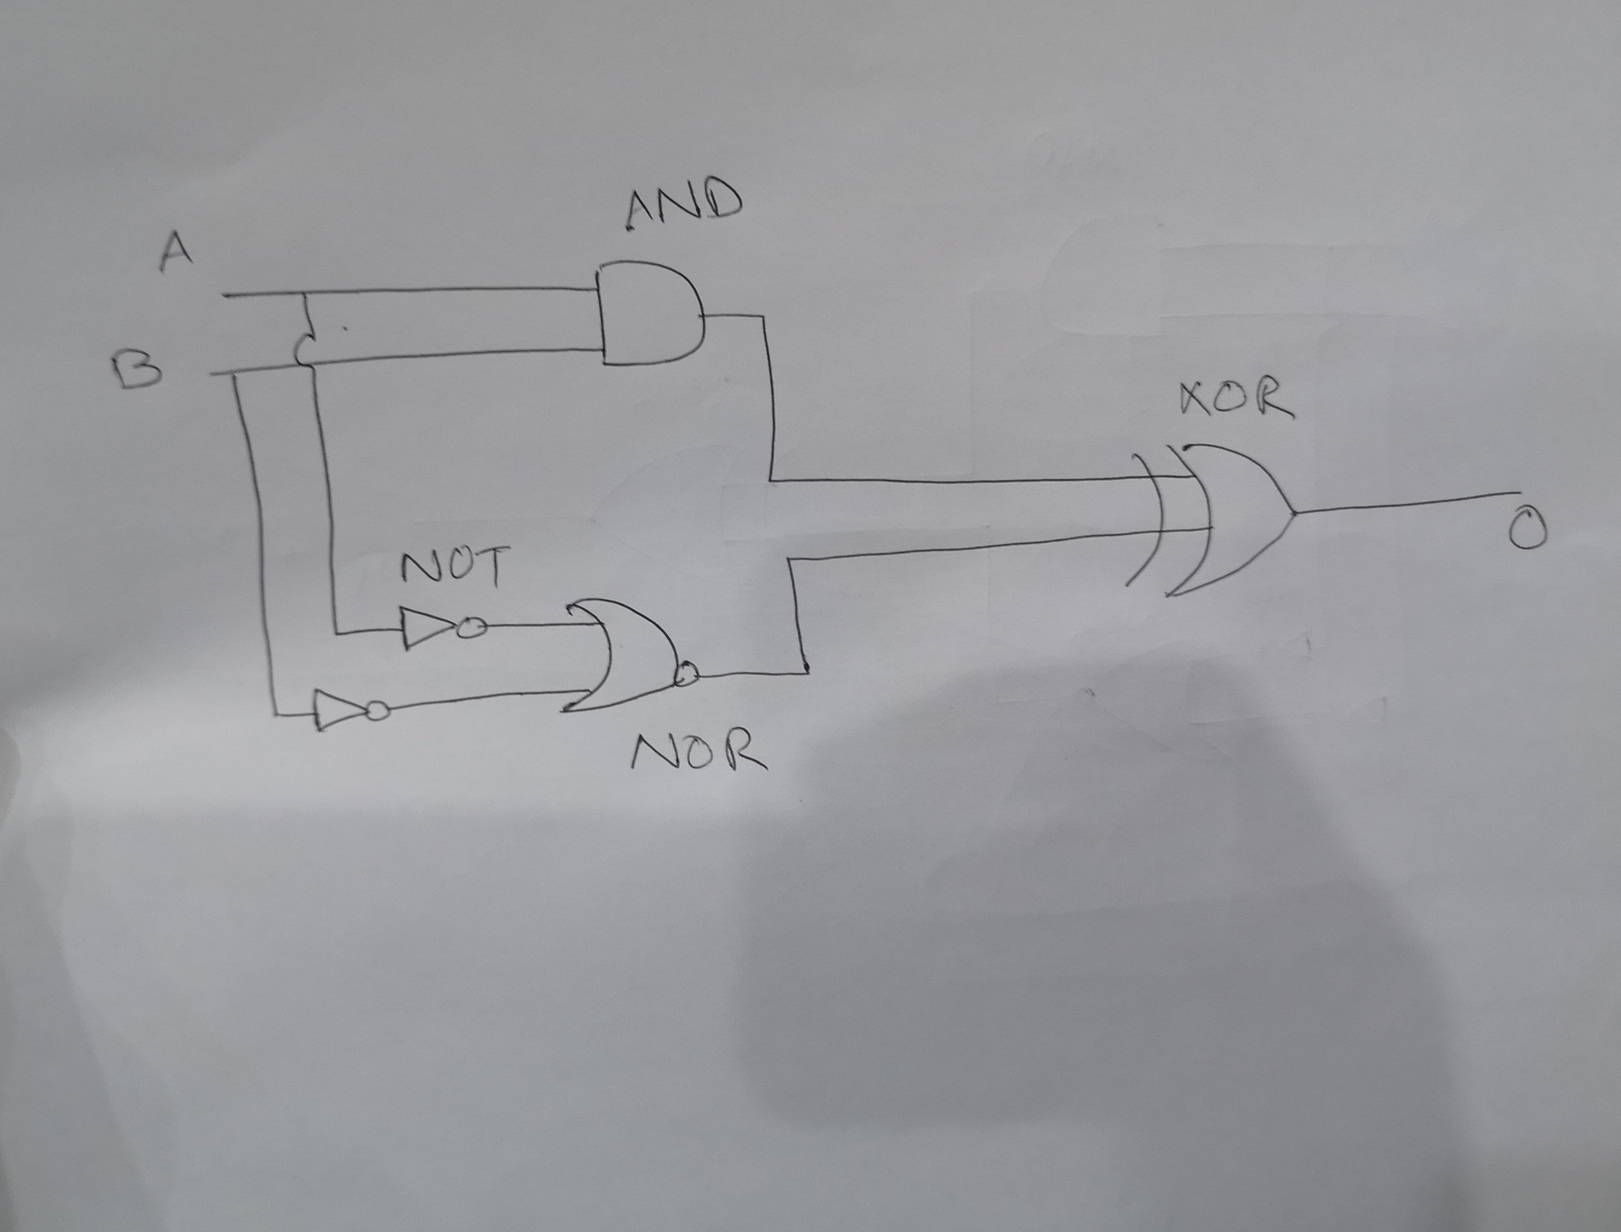and: (589, 250, 713, 374)
crossover: (290, 329, 323, 377)
junction: (790, 657, 820, 688), (750, 303, 776, 333), (779, 547, 802, 569), (758, 471, 783, 490), (294, 282, 314, 300), (327, 625, 345, 644), (226, 365, 245, 384), (268, 707, 286, 725)
nor: (551, 591, 706, 722)
not: (395, 600, 493, 657), (307, 679, 395, 736)
terminal: (213, 283, 239, 305), (1508, 484, 1528, 503), (202, 365, 221, 382)
text: (618, 170, 750, 238), (630, 723, 771, 782), (1171, 370, 1301, 422), (398, 540, 516, 593), (109, 344, 167, 391), (1505, 503, 1552, 555), (154, 226, 195, 272)
xor: (1111, 434, 1304, 610)
